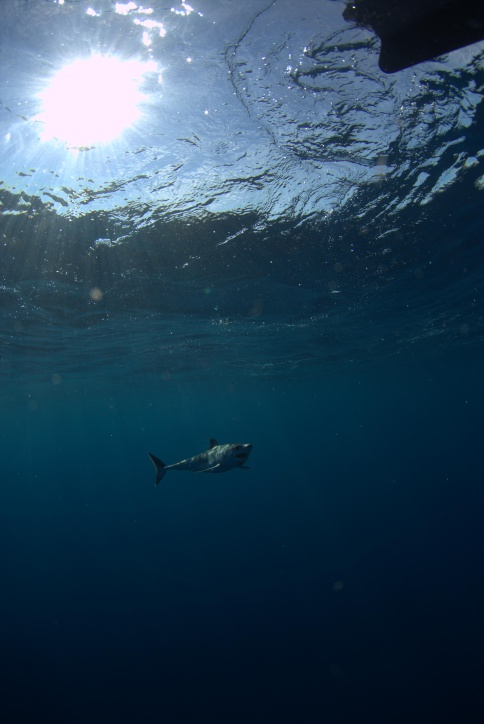Mako: (125, 435, 268, 487)
